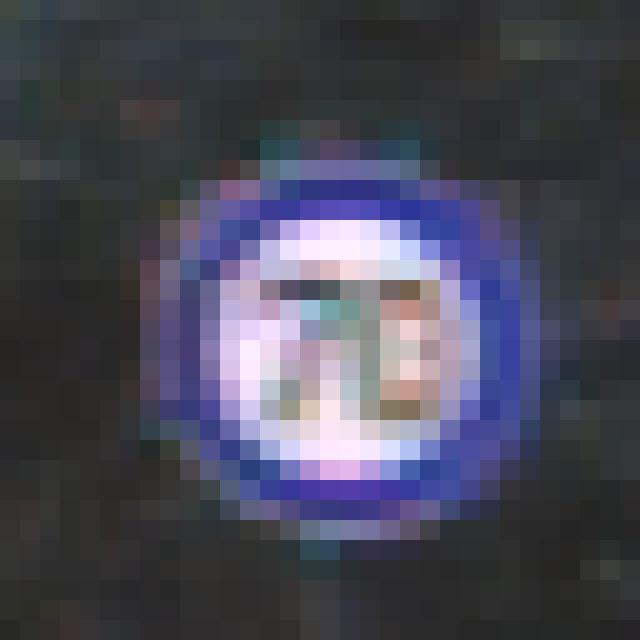SPEED LIMIT 70: (143, 149, 526, 548)
